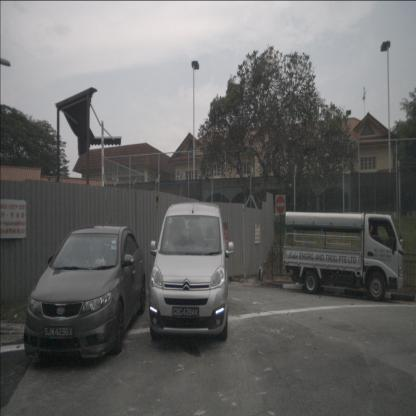vehicle-car: (24, 225, 146, 360), (149, 202, 229, 341)
vehicle-truck: (283, 211, 404, 302)
